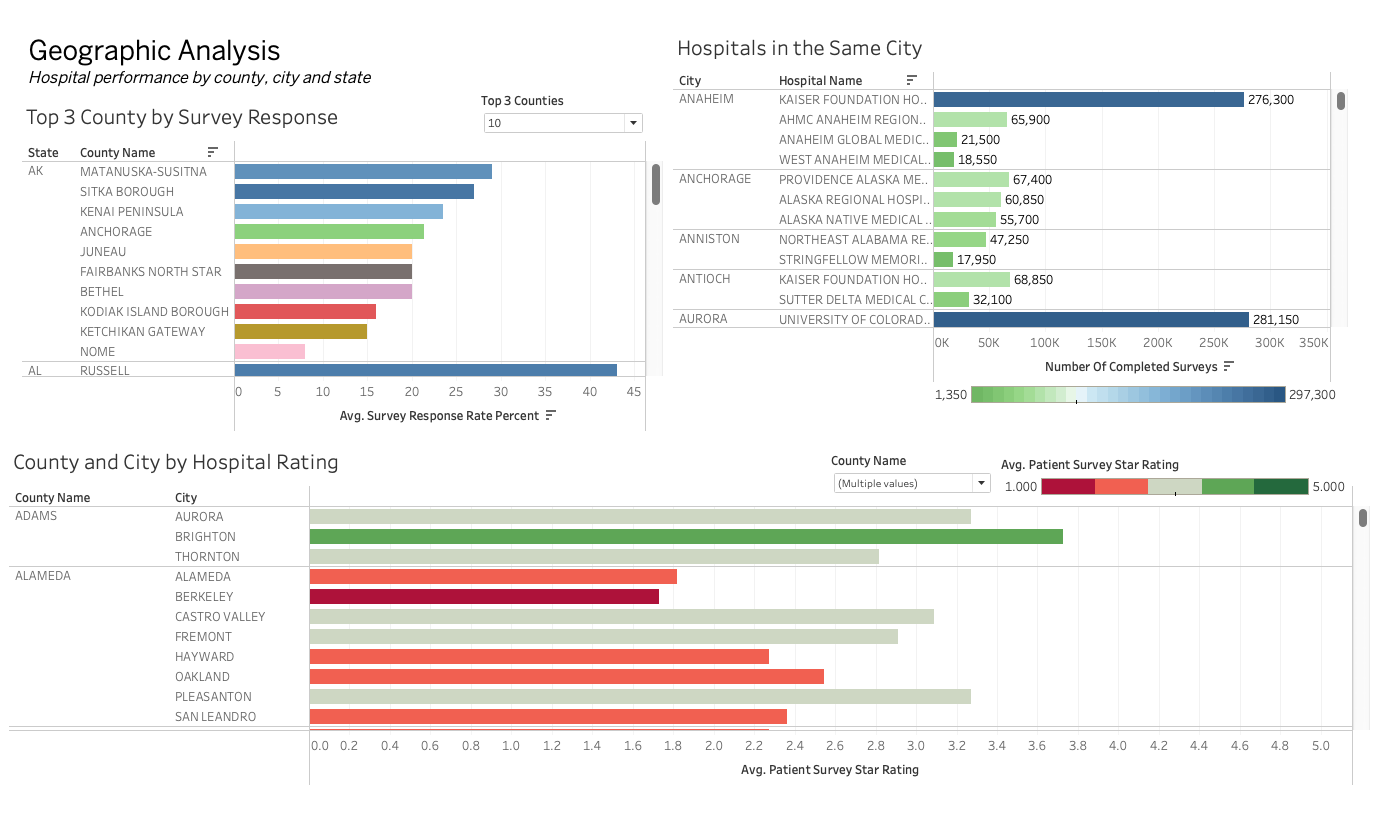

Layout of this report page (visuals, bound fields, positions):
{"tool":"tableau","page":{"name":" Geographic Analysis","canvas":[1366,768],"ordinal":0},"visuals":[{"type":"worksheet","title":"Hospitals in the Same City","mark":"Automatic","rows":["CITY","HOSPITAL_NAME"],"cols":["NUMBER_OF_COMPLETED_SURVEYS"],"box":[666,9,675,354]},{"type":"text","box":[19.1,13.4,1337.3,54.7]},{"type":"parameter","param":"[Parameters].[Parameter 2]","box":[474,72,165,50]},{"type":"worksheet","title":"Top 3 County by Survey Response","mark":"Automatic","rows":["STATE","COUNTY_NAME"],"cols":["SURVEY_RESPONSE_RATE_PERCENT"],"box":[15,78,641,334]},{"type":"legend","title":"Hospitals in the Same City","param":"[federated.1upq2120pcvy0l15ykqme1bhwf3p].[sum:NUMBER_OF_COMPLETED_SURVEYS:qk]","box":[924,362,410,38]},{"type":"worksheet","title":"County and City by Hospital Rating","mark":"Automatic","rows":["COUNTY_NAME","CITY"],"cols":["PATIENT_SURVEY_STAR_RATING"],"box":[2,423,1361,343]},{"type":"filter","title":"County and City by Hospital Rating","param":"[federated.1upq2120pcvy0l15ykqme1bhwf3p].[none:COUNTY_NAME:nk]","box":[824,432,163,48]},{"type":"legend","title":"County and City by Hospital Rating","param":"[federated.1upq2120pcvy0l15ykqme1bhwf3p].[avg:PATIENT_SURVEY_STAR_RATING:qk]","box":[994,436,349,46]}]}

Visuals, with their boxes on the page's 1366x768 design canvas (x1, y1, x2, y2). These are canvas units, not pixel positions in the 1392x838 screenshot, which may show the page scaled, cropped or inside an application window:
"Hospitals in the Same City" worksheet: BBox(666, 9, 1341, 363)
text: BBox(19, 13, 1356, 68)
parameter: BBox(474, 72, 639, 122)
"Top 3 County by Survey Response" worksheet: BBox(15, 78, 656, 412)
"Hospitals in the Same City" legend: BBox(924, 362, 1334, 400)
"County and City by Hospital Rating" worksheet: BBox(2, 423, 1363, 766)
"County and City by Hospital Rating" filter: BBox(824, 432, 987, 480)
"County and City by Hospital Rating" legend: BBox(994, 436, 1343, 482)
